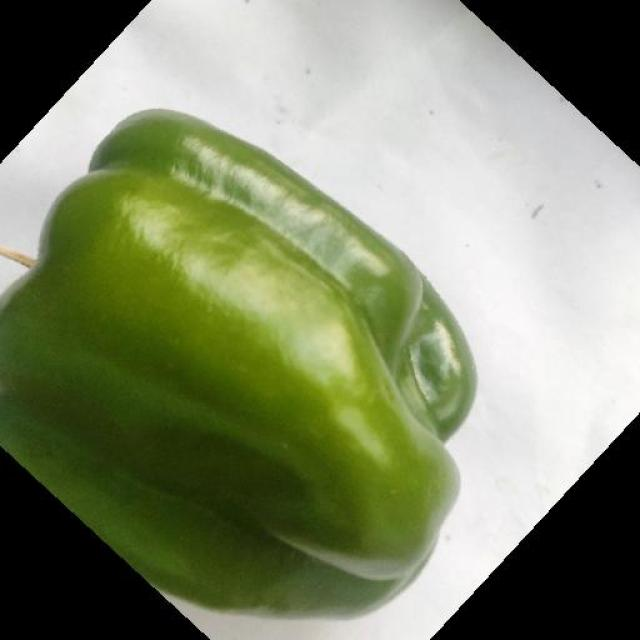Fresh_Capsicum: (0, 117, 469, 609)
